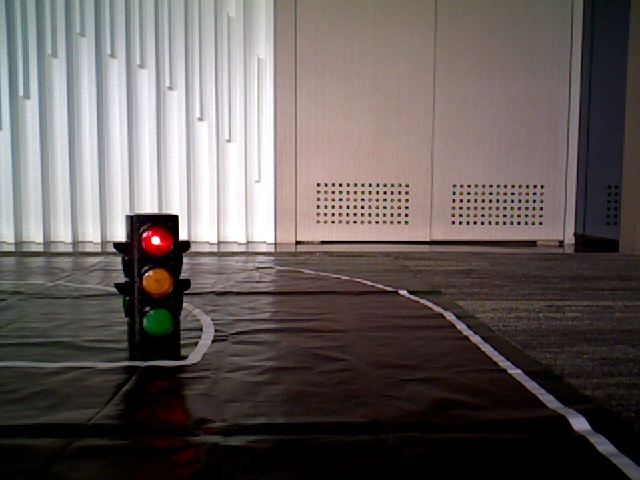red: (129, 220, 180, 349)
